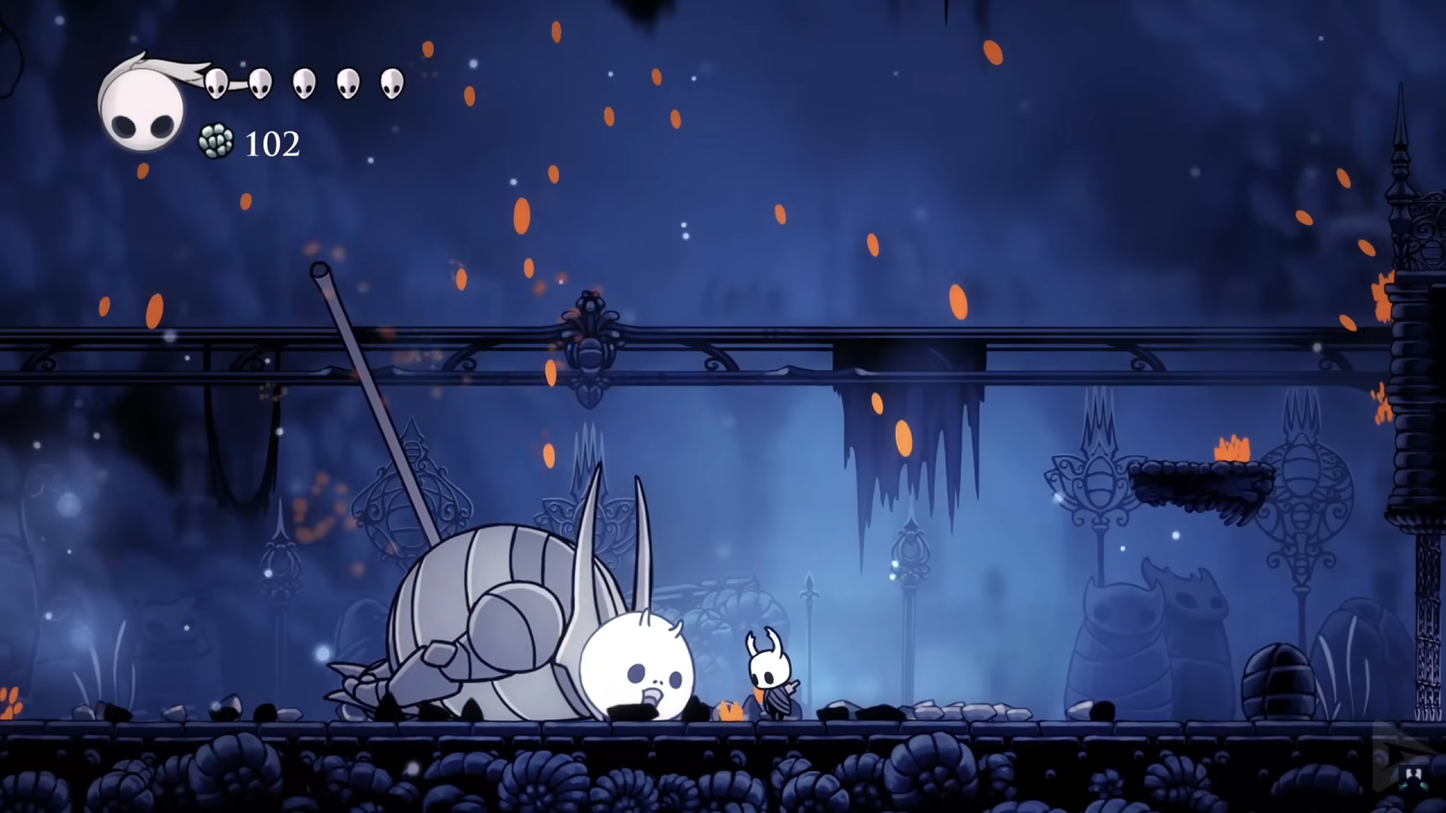HK: (743, 621, 796, 725)
